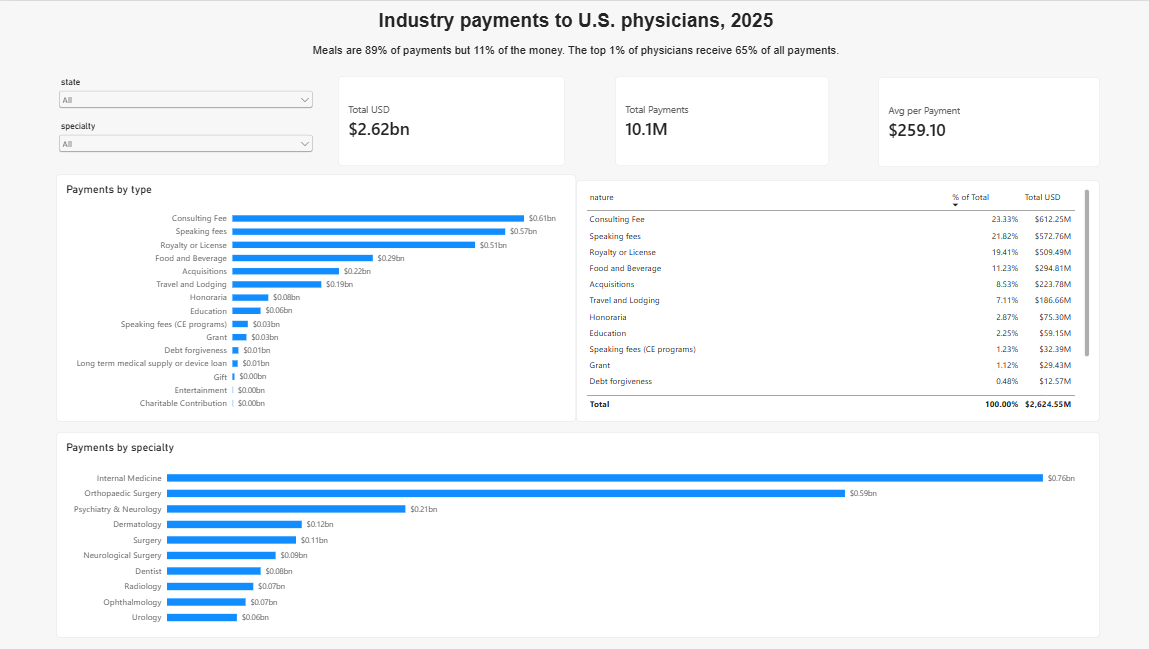

Layout of this report page (visuals, bound fields, positions):
{"tool":"powerbi","page":{"name":"Dashboard","canvas":[1920,1080],"ordinal":0},"visuals":[{"type":"textbox","box":[0,15.7,1920,102.9],"z":0},{"type":"slicer","fields":{"Values":["excel_practice.state"]},"box":[93.3,126.7,433.3,73.3],"z":1000},{"type":"slicer","fields":{"Values":["excel_practice.specialty"]},"box":[93.3,200,433.3,88.3],"z":2000},{"type":"cardVisual","fields":{"Data":["excel_practice.Total Payments"]},"box":[1024.2,125,356.7,150],"z":3000},{"type":"cardVisual","fields":{"Data":["excel_practice.Avg per Payment"]},"box":[1463.3,126.7,370,150],"z":4000},{"type":"cardVisual","fields":{"Data":["excel_practice.Total USD"]},"box":[563.3,125,378.3,150],"z":5000},{"type":"clusteredBarChart","title":"Payments by type","fields":{"Category":["excel_practice.nature"],"Y":["excel_practice.Total USD"]},"box":[93.3,288.3,866.7,413.3],"z":6000},{"type":"tableEx","fields":{"Values":["excel_practice.nature","excel_practice.% of Total","excel_practice.Total USD"]},"box":[960,298.3,873.3,403.3],"z":6001},{"type":"clusteredBarChart","title":"Payments by specialty","fields":{"Category":["excel_practice.specialty"],"Y":["excel_practice.Total USD"]},"box":[93.3,718.3,1740,343.3],"z":6002}]}

Visuals, with their boxes in screenshot pixels (x1, y1, x2, y2), scaled from the page's 1920x1080 canvas onto the 1149x649 screenshot:
textbox: bbox(0, 9, 1148, 71)
slicer - excel_practice.state: bbox(56, 76, 315, 120)
slicer - excel_practice.specialty: bbox(56, 120, 315, 173)
cardVisual - excel_practice.Total Payments: bbox(613, 75, 826, 165)
cardVisual - excel_practice.Avg per Payment: bbox(876, 76, 1097, 166)
cardVisual - excel_practice.Total USD: bbox(337, 75, 563, 165)
"Payments by type" clusteredBarChart: bbox(56, 173, 574, 422)
tableEx - excel_practice.nature x excel_practice.% of Total: bbox(574, 179, 1097, 422)
"Payments by specialty" clusteredBarChart: bbox(56, 432, 1097, 638)
